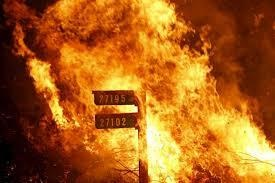fire: (20, 5, 270, 169)
